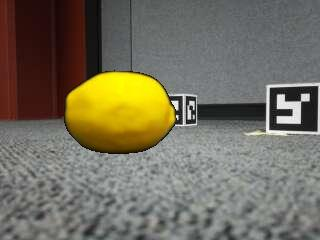lemon: (66, 72, 174, 153)
